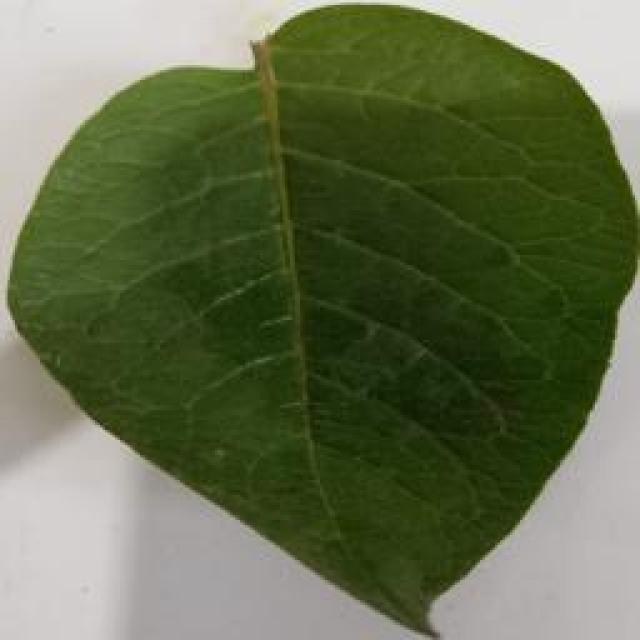Potato_Healthy: (8, 7, 627, 635)
